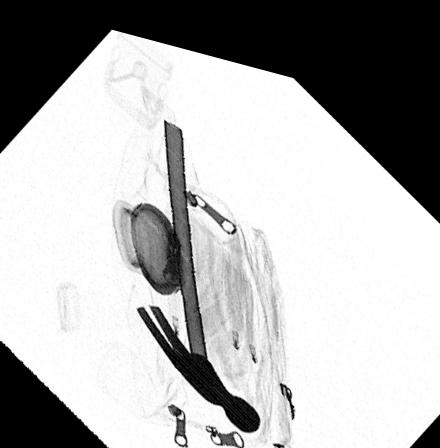Hammer: (135, 109, 261, 420)
